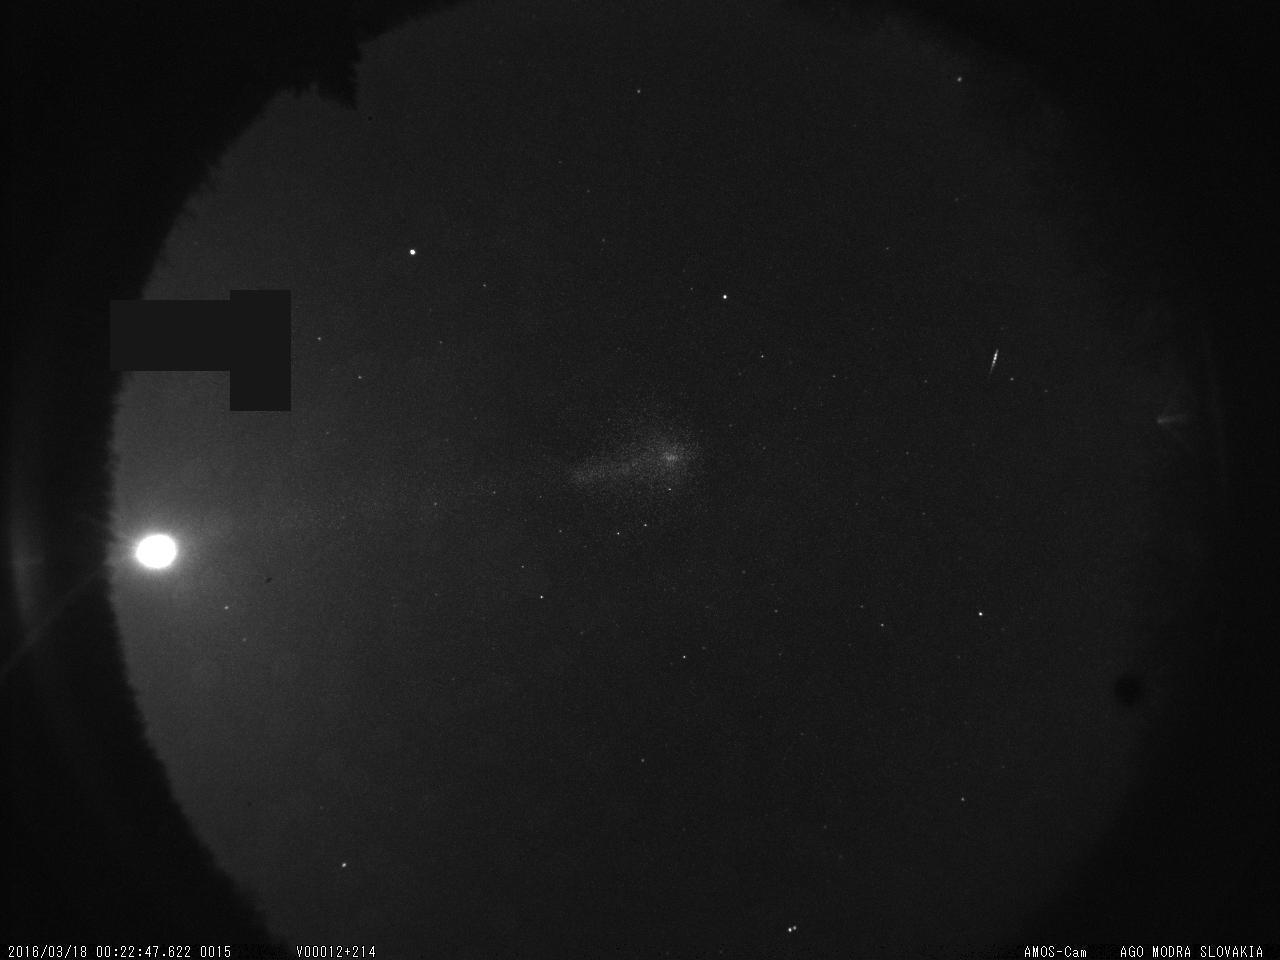Meteor: (982, 341, 1008, 381)
